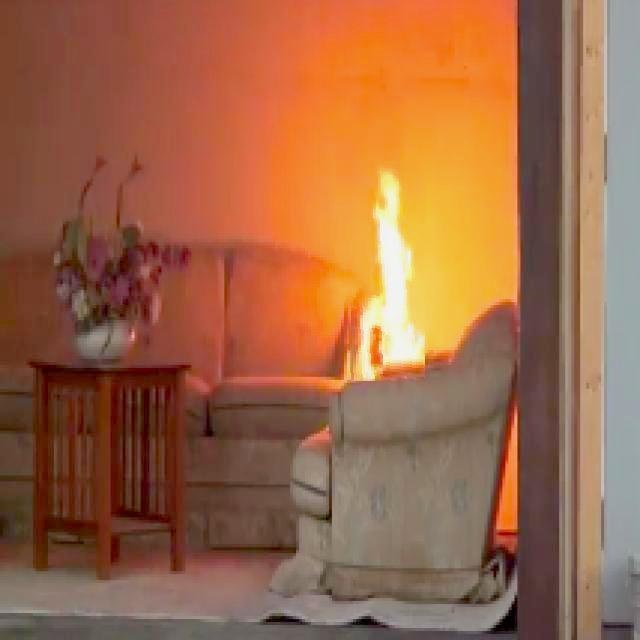fire: (348, 169, 442, 360)
